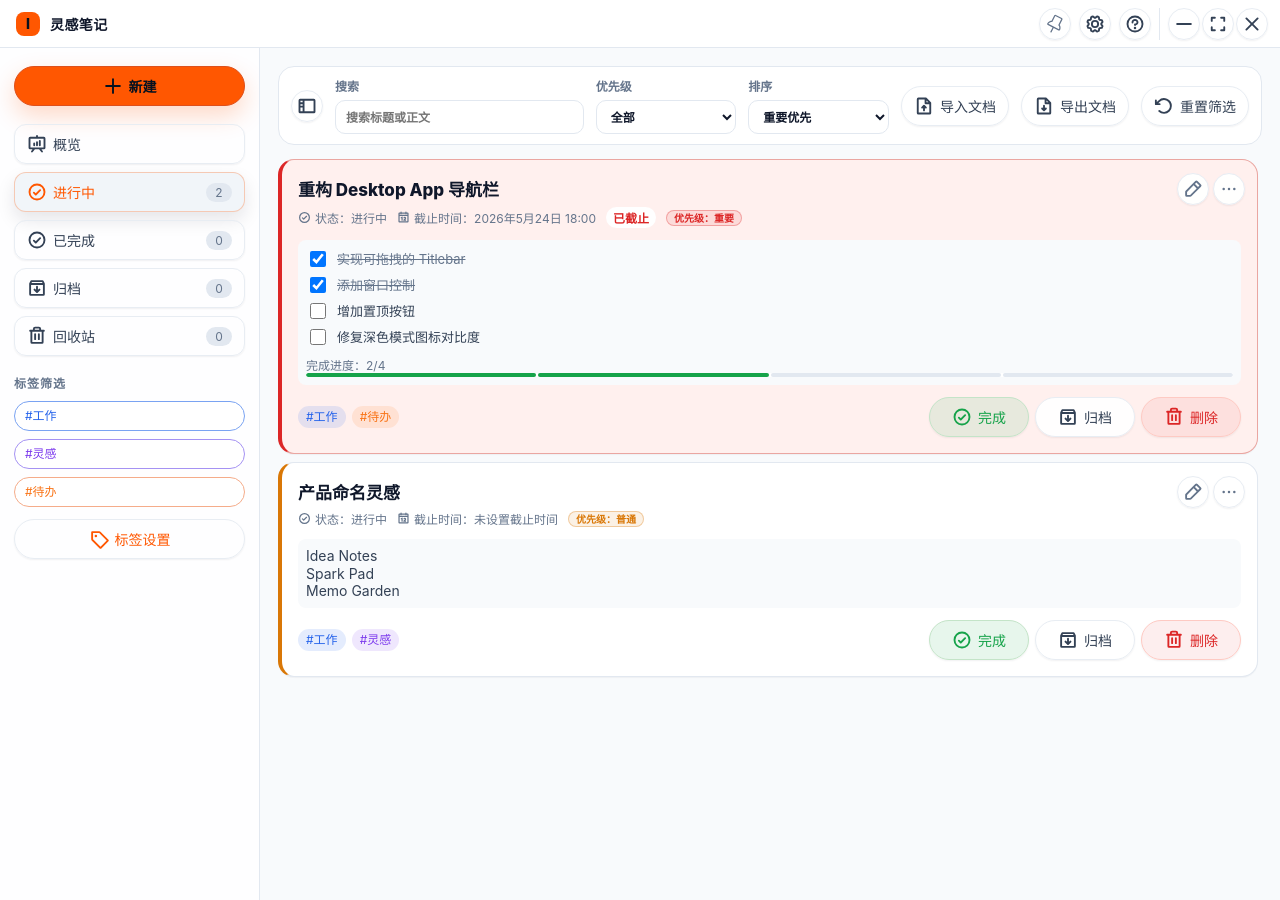
Test: App card actions › 笔记卡片按原型提供编辑按钮和更多操作菜单
Expected: the button "重构 Desktop App 导航栏" is shown, [298,176,1181,201]
Click the 1st button named "编辑笔记".
click(1193, 188)  # box [1177,172,1209,204]
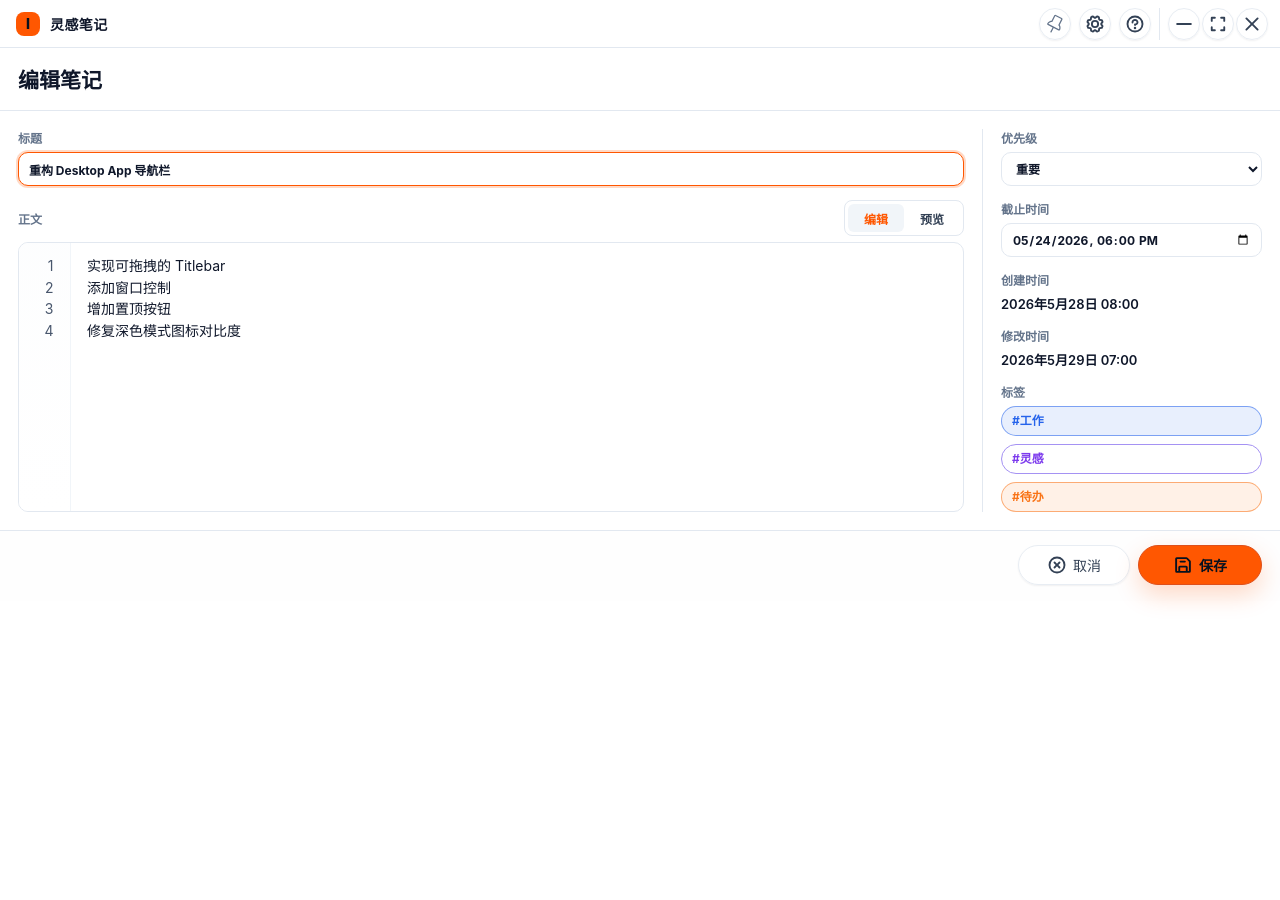
Expected: the heading "编辑笔记" is shown, [18,64,102,94]
Expected: the field showing "重构 Desktop App 导航栏" is shown, [18,152,964,186]
Click the button "取消".
click(1074, 565)  # box [1018,545,1130,585]
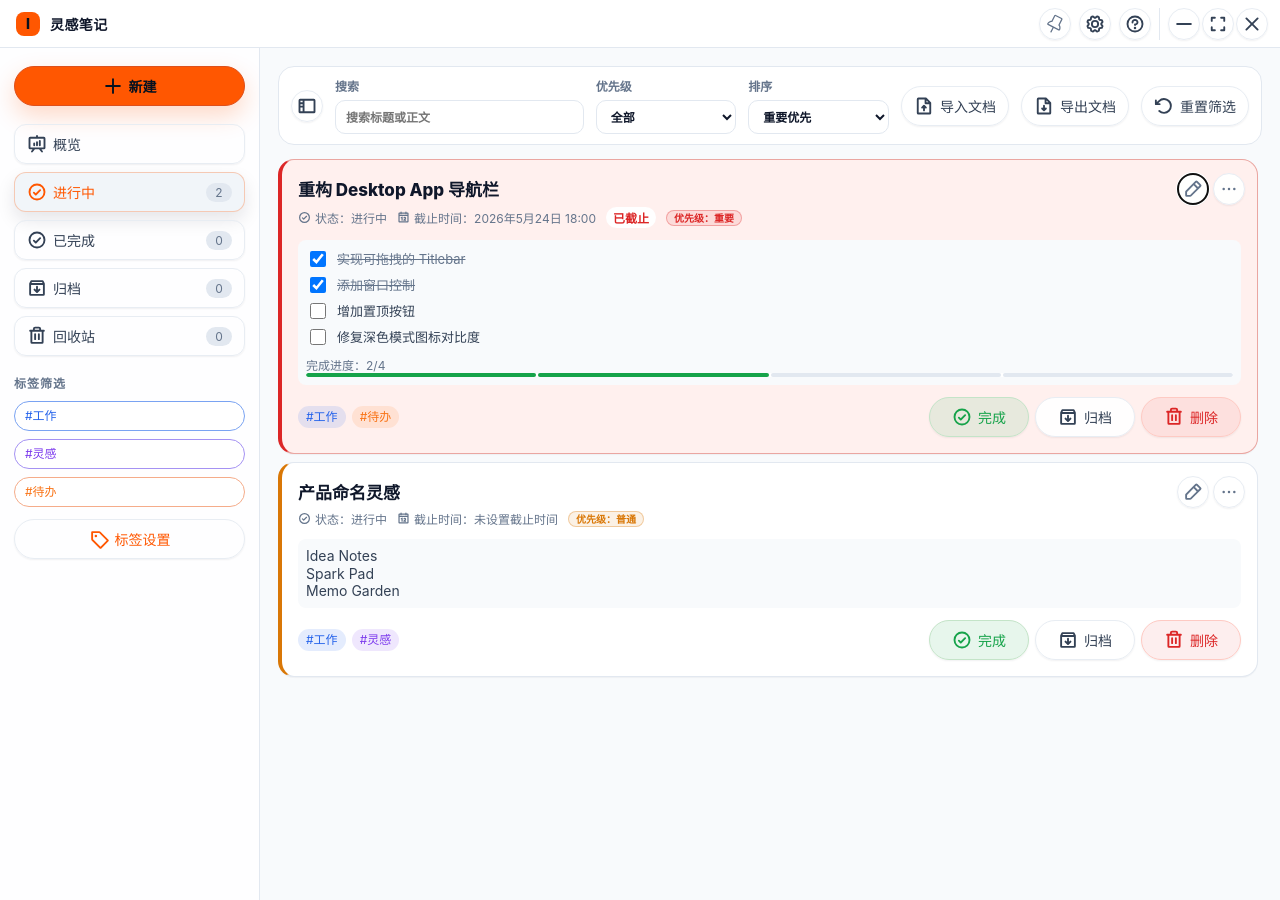
Click the 1st button named "更多操作".
click(1229, 188)  # box [1213,172,1245,204]
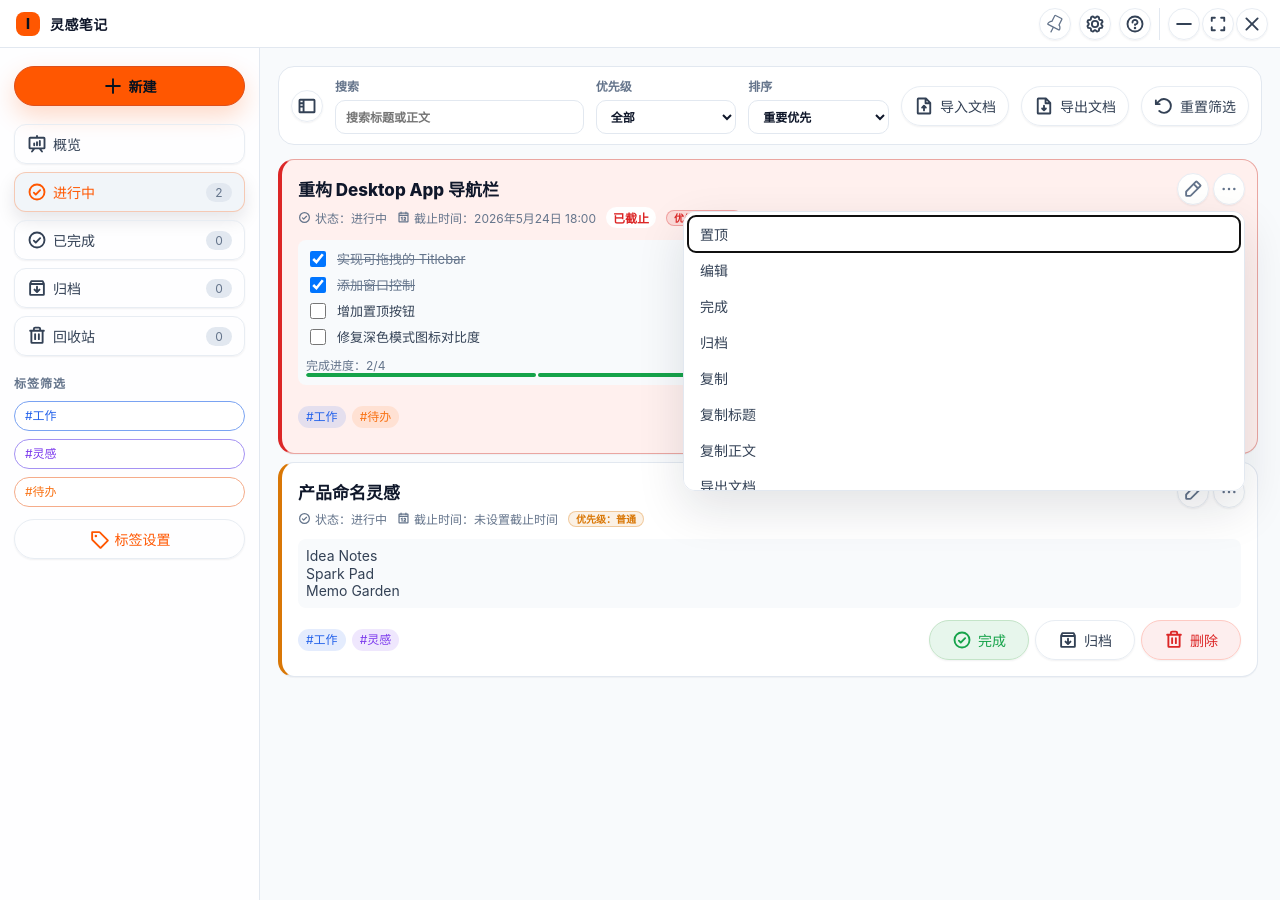
Expected: the menu item "编辑" is shown, [688,252,1240,288]
Expected: the menu item "完成" is shown, [688,288,1240,324]
Expected: the menu item "复制" is shown
Click the menu item "复制".
click(714, 378)  # box [688,360,1240,396]
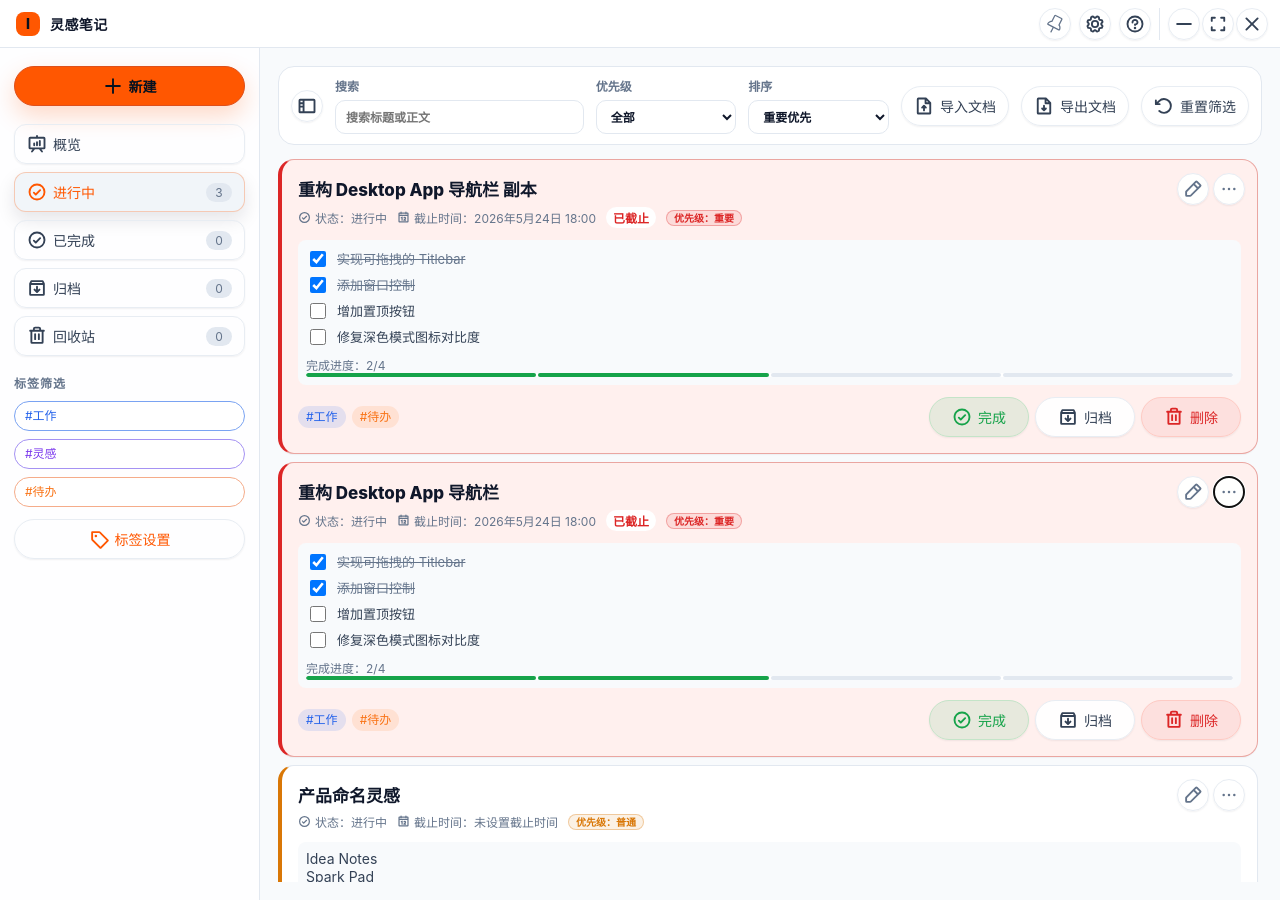
Expected: the button "重构 Desktop App 导航栏 副本" is shown, [298,176,1181,201]
